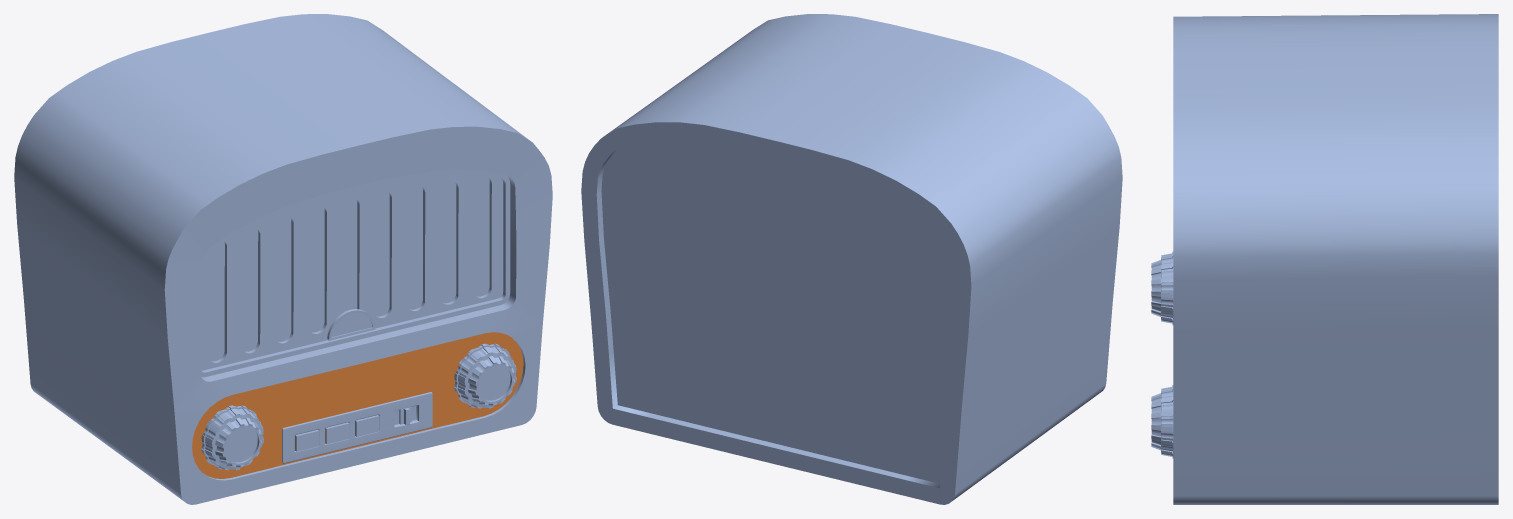
File: Old+radio.fbx
3 views of the same model, side by side, from view 1: azimuth 30°, elevation 25°; view 2: azimuth 150°, elevation 25°; view 3: azimuth 270°, elevation 25° (orthographic). The views are drawn at different scales.
Visible parts, largest first — view 1: Old radio_low, Old radio_low.001, Old radio_low.009, Old radio_low.005, Old radio_low.010, Old radio_low.002, Old radio_low.003, Old radio_low.011; view 2: Old radio_low; view 3: Old radio_low, Old radio_low.010.
Part boxes in pixels (x1,y1,x2,y2): Old radio_low: (14, 14, 552, 504); Old radio_low.001: (200, 171, 503, 370); Old radio_low.009: (209, 176, 489, 361); Old radio_low.005: (192, 332, 523, 478); Old radio_low.010: (201, 343, 516, 470); Old radio_low.002: (282, 392, 432, 463); Old radio_low.003: (200, 169, 510, 377); Old radio_low.011: (327, 309, 375, 340); Old radio_low: (581, 14, 1122, 504); Old radio_low: (1173, 14, 1498, 504); Old radio_low.010: (1151, 251, 1173, 458).
Size of the model in its own units: 26.02 by 20.62 by 18.66.
